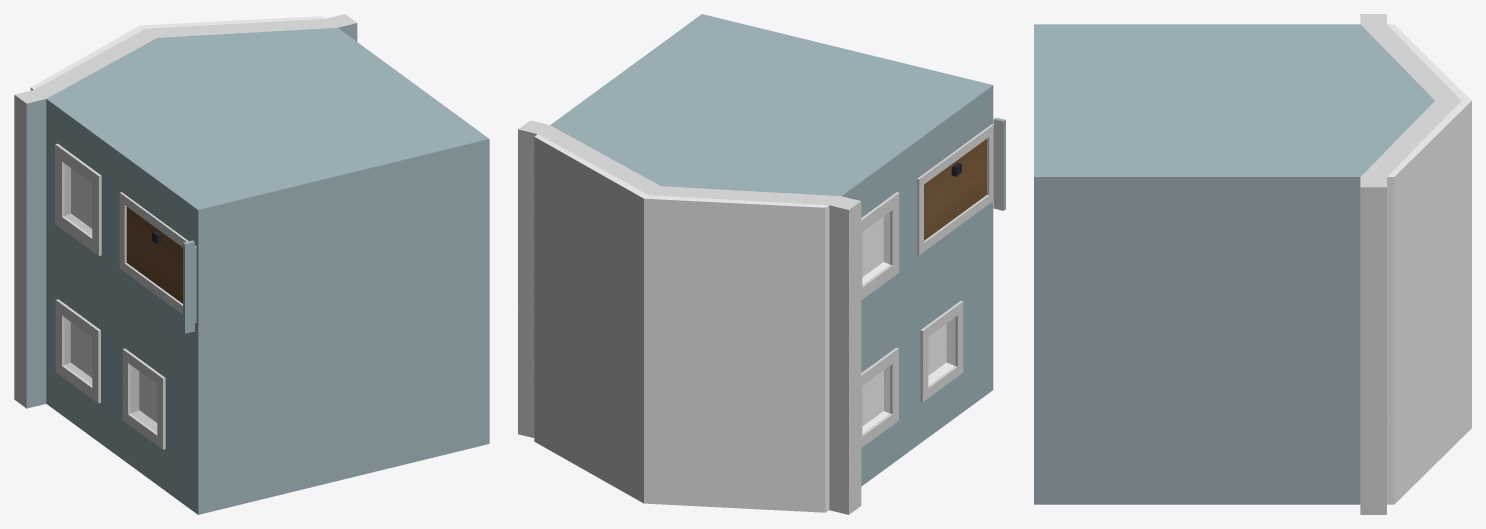
The model's file is venice_murano_13.fbx.
3 renders of one model, left to right at view 1: azimuth 30°, elevation 25°; view 2: azimuth 150°, elevation 25°; view 3: azimuth 270°, elevation 25°, orthographic. The views are drawn at different scales.
Visible parts, largest first — view 1: Cube.335; view 2: Cube.335; view 3: Cube.335.
Part boxes in pixels (box(x1,y1,x2,y2)): Cube.335: box(14, 14, 489, 514); Cube.335: box(518, 14, 1005, 514); Cube.335: box(1034, 14, 1471, 514).
Bounding box in the file's own units: 897 × 790 × 956.
